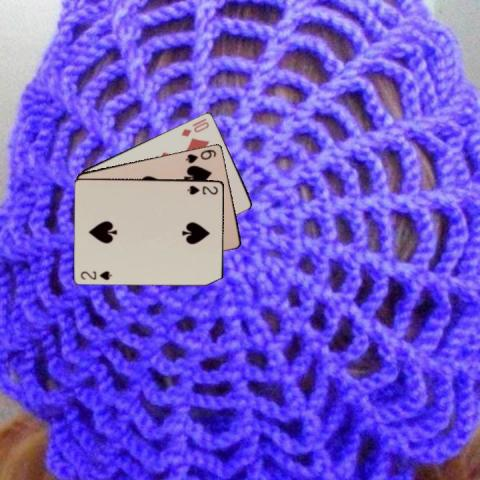10d: (178, 119, 210, 138)
2s: (184, 182, 219, 196), (78, 268, 113, 281)
6s: (183, 146, 217, 165)
